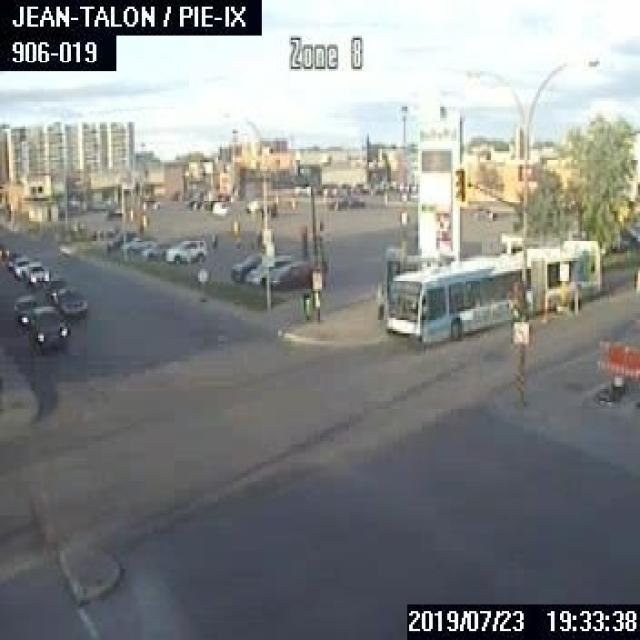bus: (383, 237, 600, 344)
construction: (591, 336, 638, 398)
vehicle: (27, 303, 69, 352), (258, 259, 311, 288), (244, 253, 292, 281), (52, 286, 87, 316), (12, 294, 36, 332), (228, 252, 262, 278), (165, 238, 205, 260), (42, 275, 70, 301), (24, 261, 48, 283), (140, 241, 170, 257), (120, 236, 150, 251), (11, 253, 30, 276)
